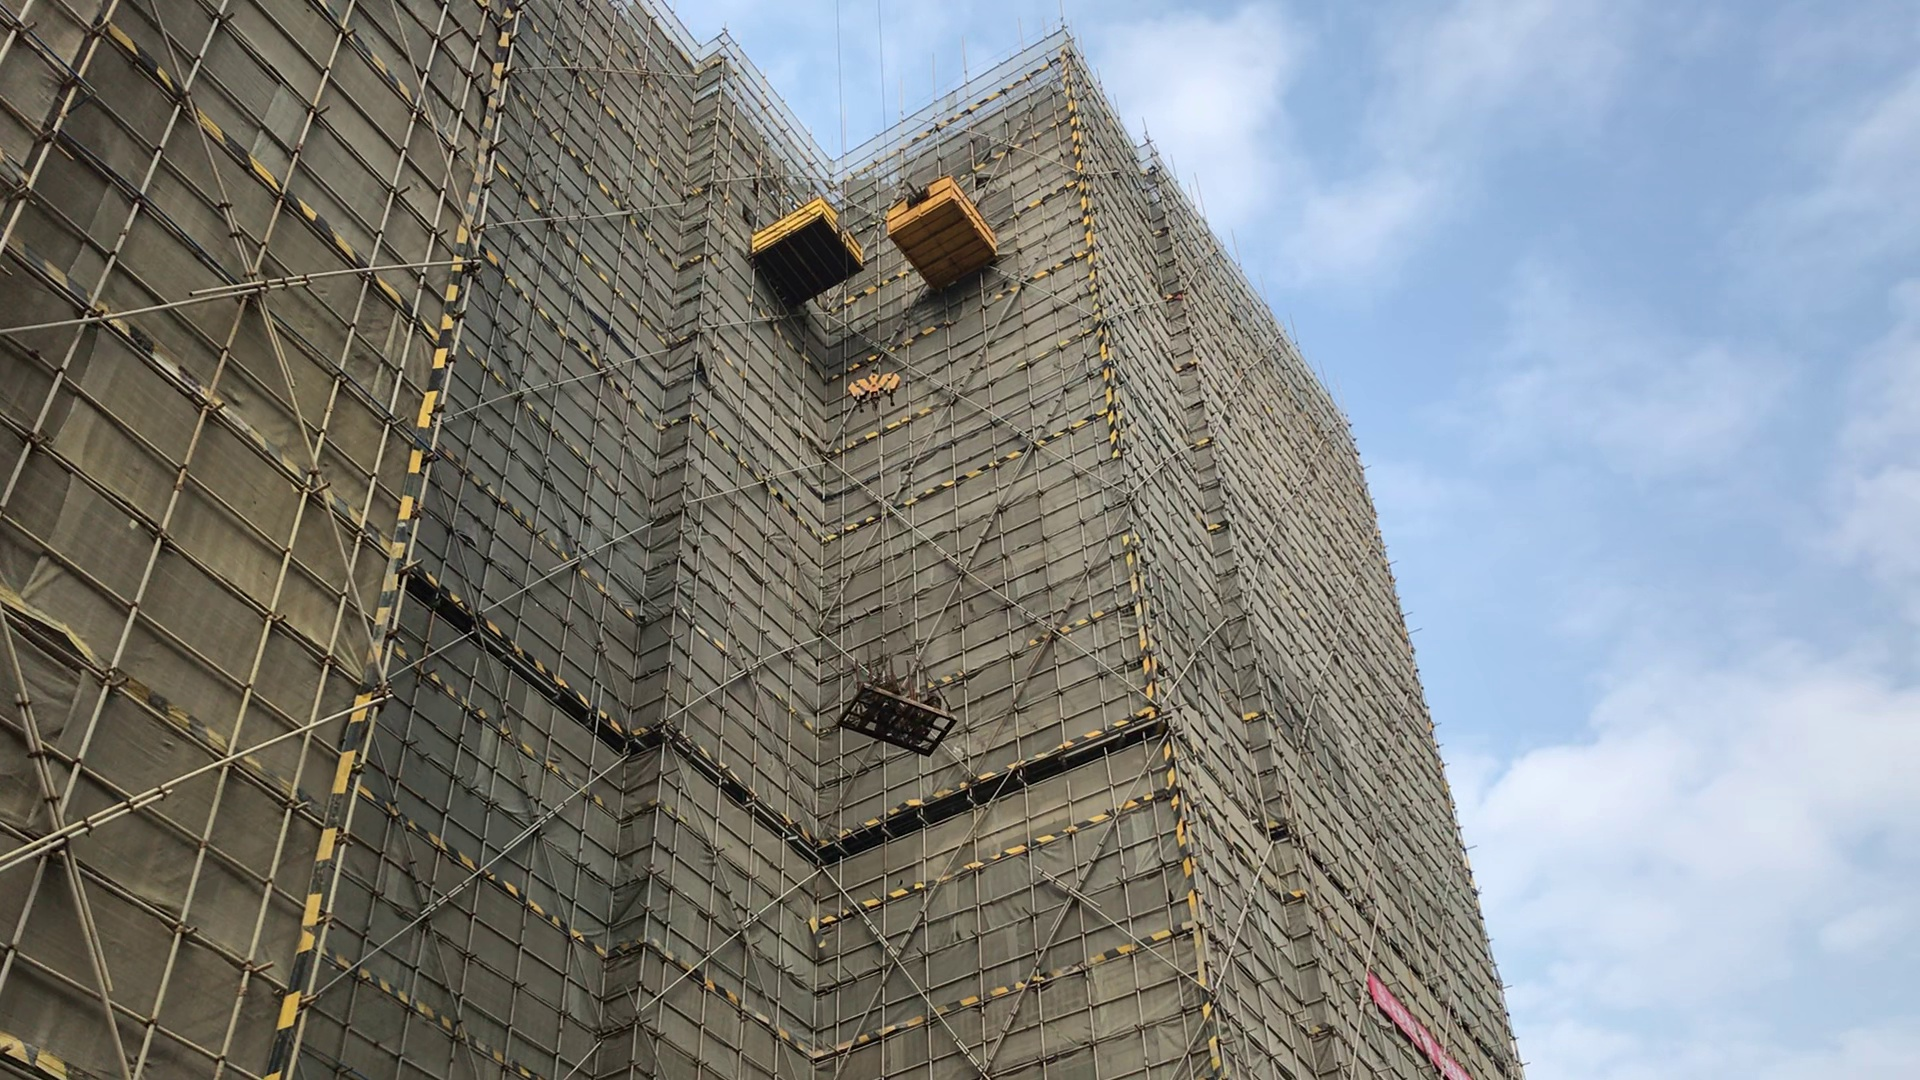hook: (841, 365, 915, 419)
slogan: (1364, 967, 1476, 1080)
